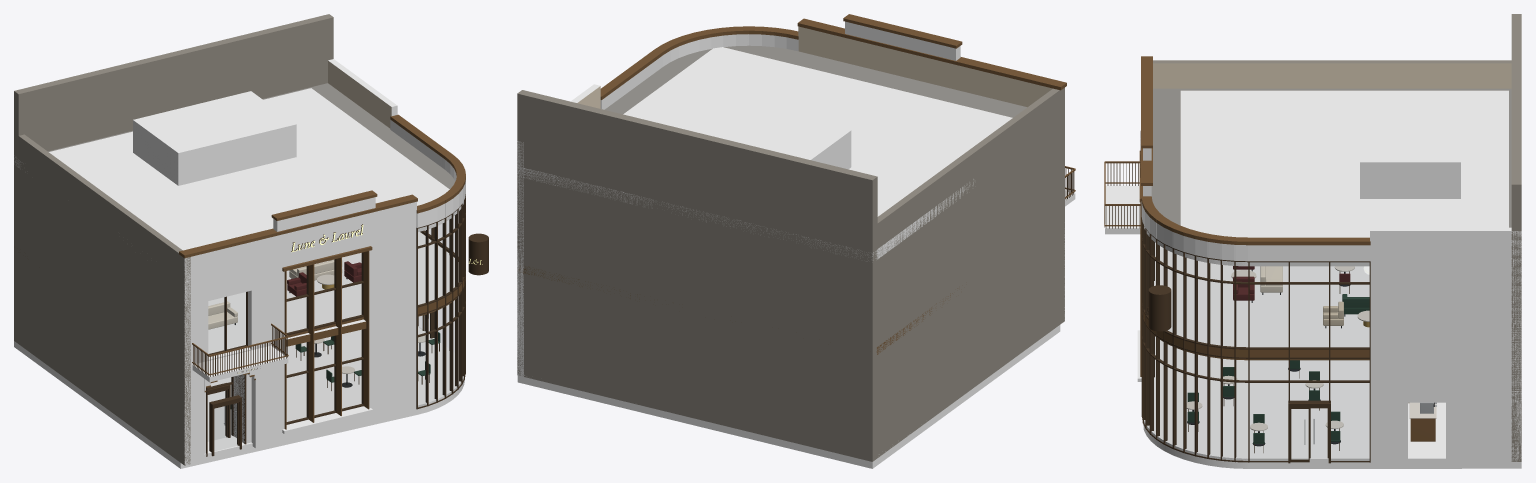
File: lune_and_laurel_lod0.glb
3 renders of one model, left to right at view 1: azimuth 30°, elevation 25°; view 2: azimuth 150°, elevation 25°; view 3: azimuth 270°, elevation 25°, orthographic. The views are drawn at different scales.
Parts seen in each view (by area): view 1: B03_LOD0_BUILDING_EXTERIOR_Stone, B03_LOD0_BUILDING_EXTERIOR_Roof, B03_LOD0_BUILDING_EXTERIOR_RearInterface, B03_LOD0_BUILDING_INTERIOR_GroundSlab, B03_LOD0_GLASS_SYSTEM_CornerFrame, B03_LOD0_BUILDING_INTERIOR_FirstSlab, B03_LOD0_FACADE_DETAILS_Bronze, B03_LOD0_GLASS_SYSTEM_TallWindowFrame, B03_LOD0_FURNITURE_Cafe, B03_LOD0_FACADE_DETAILS_CornerBands, B03_LOD0_FACADE_DETAILS_BalconyRail, B03_LOD0_GLASS_SYSTEM_BalconyDoorFrame (+3 smaller); view 2: B03_LOD0_BUILDING_EXTERIOR_Stone, B03_LOD0_BUILDING_EXTERIOR_RearInterface, B03_LOD0_BUILDING_EXTERIOR_Roof, B03_LOD0_FACADE_DETAILS_CornerBands, B03_LOD0_BUILDING_INTERIOR_GroundSlab, B03_LOD0_FACADE_DETAILS_Bronze; view 3: B03_LOD0_BUILDING_EXTERIOR_Roof, B03_LOD0_BUILDING_EXTERIOR_Stone, B03_LOD0_BUILDING_INTERIOR_GroundSlab, B03_LOD0_GLASS_SYSTEM_CornerFrame, B03_LOD0_BUILDING_INTERIOR_FirstSlab, B03_LOD0_FACADE_DETAILS_CornerBands, B03_LOD0_BUILDING_EXTERIOR_RearInterface, B03_LOD0_FURNITURE_Cafe, B03_LOD0_FACADE_DETAILS_Bronze, B03_LOD0_DISPLAY_OBJECTS_Pastry, B03_LOD0_SIGNAGE_Blade, B03_LOD0_FACADE_DETAILS_BalconyRail.
Boxes of the visible parts, x1=… form: B03_LOD0_BUILDING_EXTERIOR_Stone: x1=14, y1=59, x2=416, y2=465; B03_LOD0_BUILDING_EXTERIOR_Roof: x1=14, y1=83, x2=463, y2=250; B03_LOD0_BUILDING_EXTERIOR_RearInterface: x1=14, y1=14, x2=333, y2=343; B03_LOD0_BUILDING_INTERIOR_GroundSlab: x1=14, y1=326, x2=464, y2=468; B03_LOD0_GLASS_SYSTEM_CornerFrame: x1=416, y1=194, x2=465, y2=409; B03_LOD0_BUILDING_INTERIOR_FirstSlab: x1=208, y1=232, x2=460, y2=353; B03_LOD0_FACADE_DETAILS_Bronze: x1=179, y1=190, x2=417, y2=434; B03_LOD0_GLASS_SYSTEM_TallWindowFrame: x1=284, y1=251, x2=369, y2=429; B03_LOD0_FURNITURE_Cafe: x1=208, y1=259, x2=440, y2=408; B03_LOD0_FACADE_DETAILS_CornerBands: x1=390, y1=114, x2=465, y2=227; B03_LOD0_FACADE_DETAILS_BalconyRail: x1=192, y1=323, x2=288, y2=376; B03_LOD0_GLASS_SYSTEM_BalconyDoorFrame: x1=208, y1=291, x2=247, y2=456; B03_LOD0_BUILDING_EXTERIOR_Stone: x1=517, y1=21, x2=1064, y2=461; B03_LOD0_BUILDING_EXTERIOR_RearInterface: x1=517, y1=90, x2=877, y2=458; B03_LOD0_BUILDING_EXTERIOR_Roof: x1=518, y1=45, x2=1026, y2=262; B03_LOD0_FACADE_DETAILS_CornerBands: x1=600, y1=26, x2=798, y2=109; B03_LOD0_BUILDING_INTERIOR_GroundSlab: x1=517, y1=325, x2=1060, y2=468; B03_LOD0_FACADE_DETAILS_Bronze: x1=797, y1=14, x2=1075, y2=206; B03_LOD0_BUILDING_EXTERIOR_Roof: x1=1144, y1=88, x2=1511, y2=266; B03_LOD0_BUILDING_EXTERIOR_Stone: x1=1143, y1=60, x2=1521, y2=461; B03_LOD0_BUILDING_INTERIOR_GroundSlab: x1=1143, y1=336, x2=1521, y2=468; B03_LOD0_GLASS_SYSTEM_CornerFrame: x1=1141, y1=217, x2=1370, y2=463; B03_LOD0_BUILDING_INTERIOR_FirstSlab: x1=1146, y1=242, x2=1369, y2=360; B03_LOD0_FACADE_DETAILS_CornerBands: x1=1141, y1=196, x2=1370, y2=261; B03_LOD0_BUILDING_EXTERIOR_RearInterface: x1=1511, y1=14, x2=1521, y2=461; B03_LOD0_FURNITURE_Cafe: x1=1186, y1=266, x2=1369, y2=453; B03_LOD0_FACADE_DETAILS_Bronze: x1=1105, y1=56, x2=1152, y2=381; B03_LOD0_DISPLAY_OBJECTS_Pastry: x1=1408, y1=402, x2=1436, y2=441; B03_LOD0_SIGNAGE_Blade: x1=1146, y1=285, x2=1171, y2=331; B03_LOD0_FACADE_DETAILS_BalconyRail: x1=1104, y1=161, x2=1140, y2=228.
Bounding box in the file's own units: 16.17 × 12.42 × 16.53.
